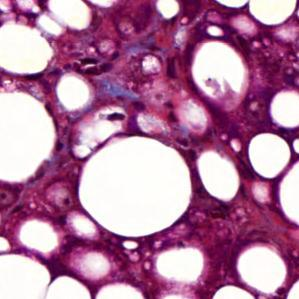steatosis: (79, 134, 193, 238), (248, 132, 290, 180), (212, 285, 256, 299)
